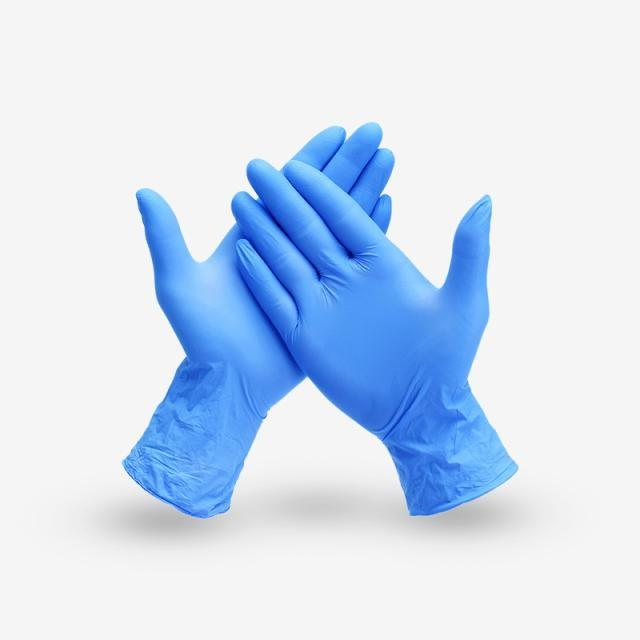apron: (116, 109, 526, 534)
